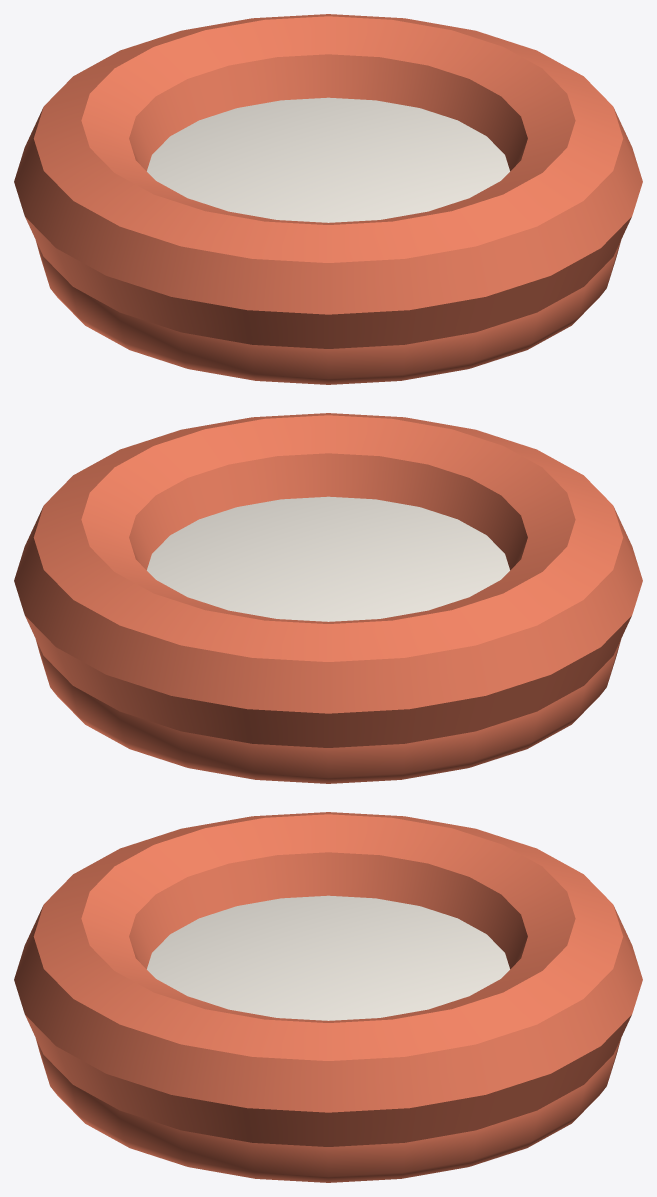
Rendered from t_bed_coral.gltf.
3 renders of one model, top to bottom at view 1: azimuth 30°, elevation 25°; view 2: azimuth 150°, elevation 25°; view 3: azimuth 270°, elevation 25°, orthographic.
Visible parts, largest first — view 1: t_bed_coral; view 2: t_bed_coral; view 3: t_bed_coral.
Boxes of the visible parts, bbox=[...] form: t_bed_coral: bbox=[14, 14, 642, 384]; t_bed_coral: bbox=[14, 413, 642, 783]; t_bed_coral: bbox=[14, 812, 642, 1182].
Bounding box in the file's own units: 0.84 × 0.22 × 0.84.
1 material, 1 textured.
